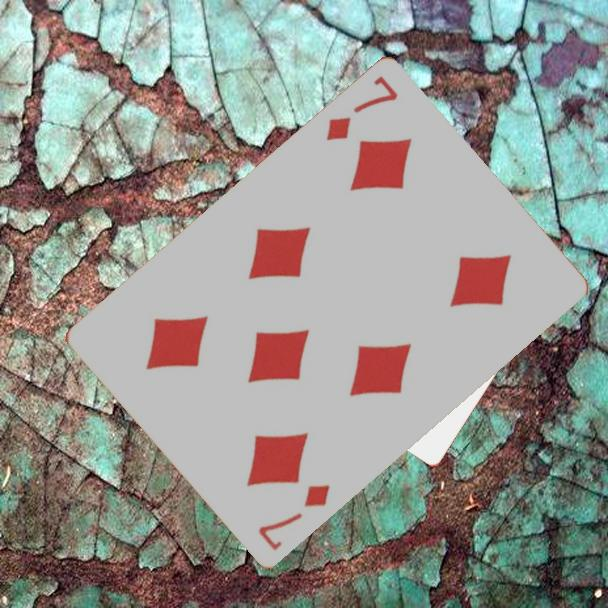d07: (254, 481, 333, 555), (322, 73, 401, 145)
